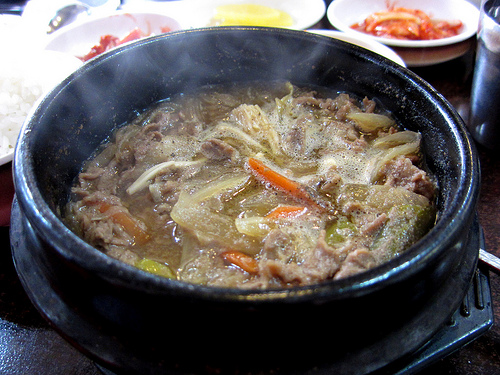bulgogi: (65, 80, 422, 283)
